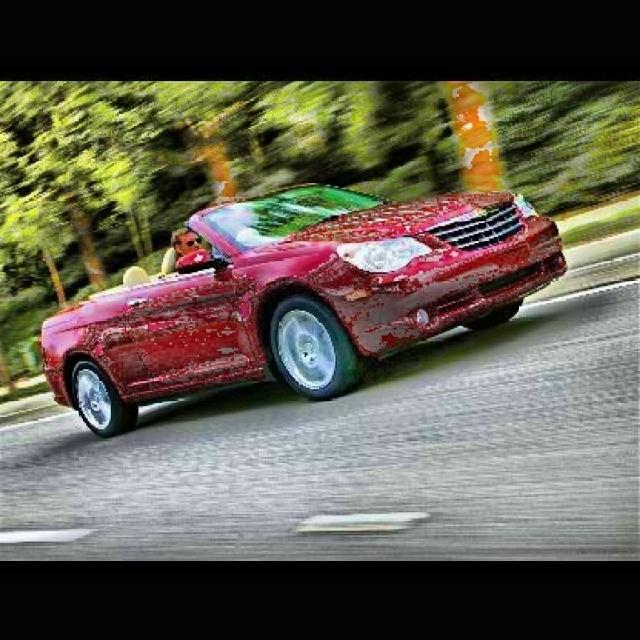maroon: (41, 180, 567, 438)
